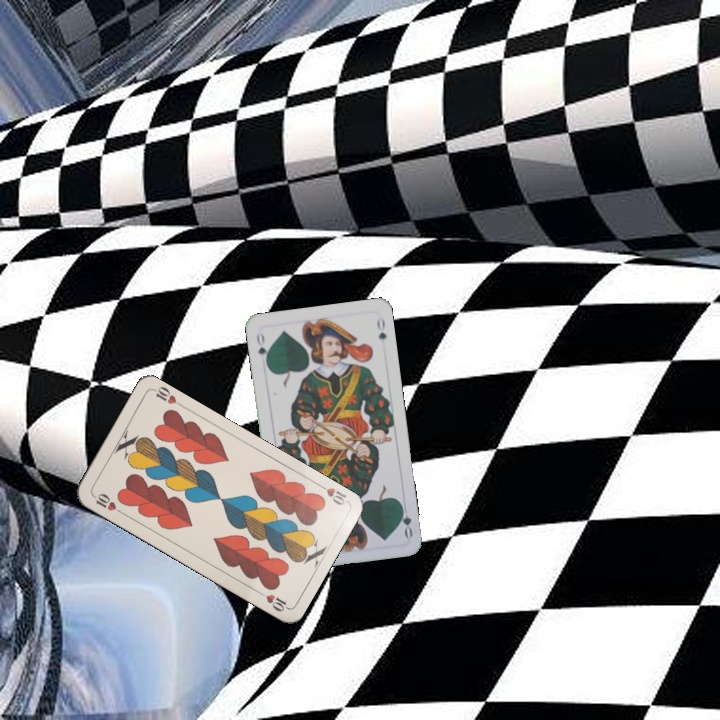GO: (395, 499, 415, 540), (252, 329, 271, 368)
H10: (313, 479, 349, 508), (89, 489, 126, 516)
